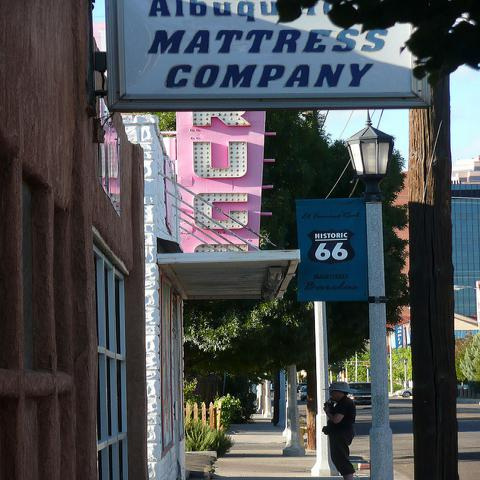car: (347, 381, 372, 406), (298, 386, 307, 402)
